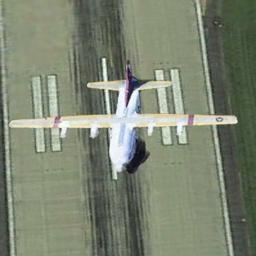Airplane: (8, 56, 238, 180)
